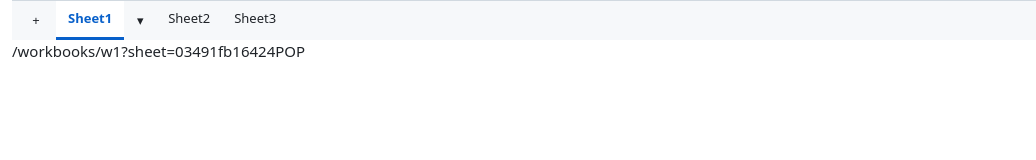
Test case: SheetTabs › rename › commits on Enter
The width and height of the screenshot is (1036, 160).
Double-click the tab with test id "sheet-tab" showing "Sheet1" at [90, 20], box x1=56 y1=1 x2=124 y2=40
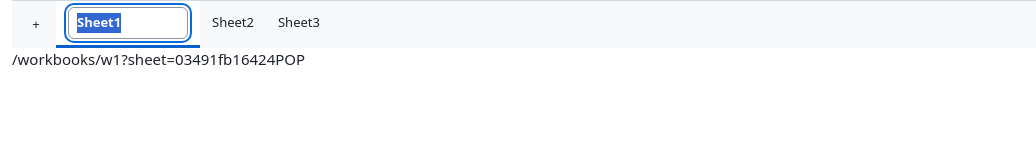
Replace the text in the field named "Sheet name" with "Budget" at [128, 23], box x1=68 y1=7 x2=188 y2=39
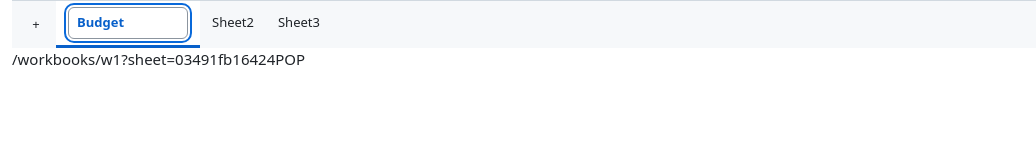
Press Enter in the field named "Sheet name", box x1=68 y1=7 x2=188 y2=39
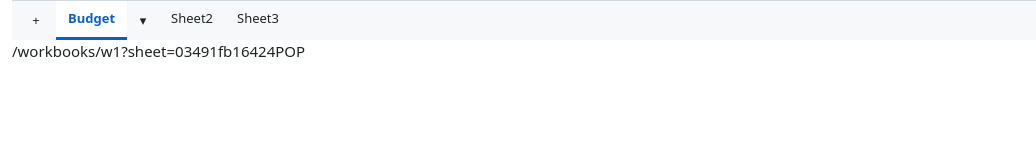
Check: the text "Budget" is shown, box x1=68 y1=9 x2=115 y2=29
